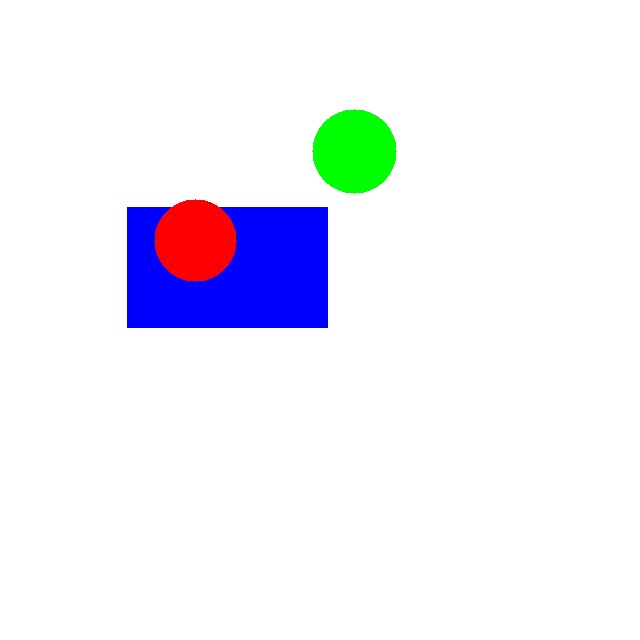cartao: (127, 207, 327, 327)
rosca_externa: (312, 109, 396, 193)
rosca_interna: (154, 199, 236, 281)
